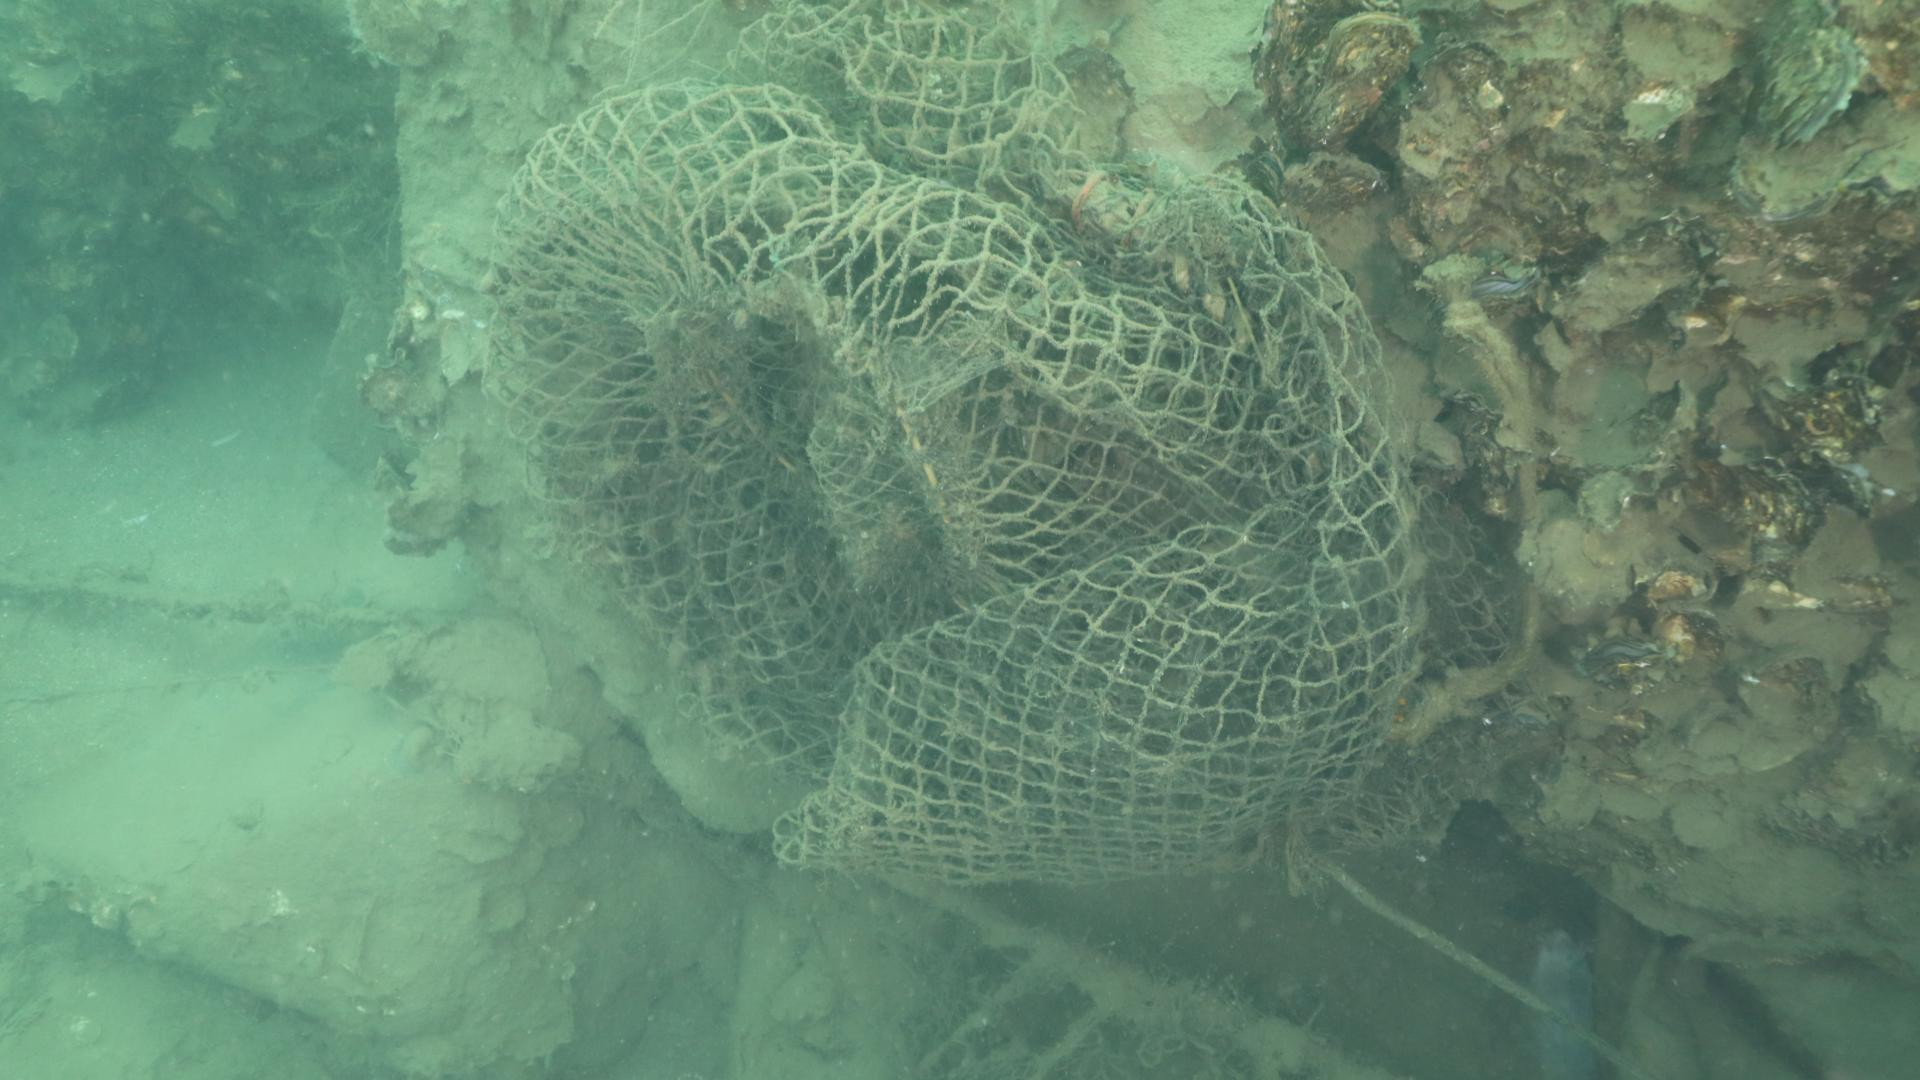bundle of ropes: (1399, 257, 1542, 746)
fish net: (481, 0, 1509, 880)
